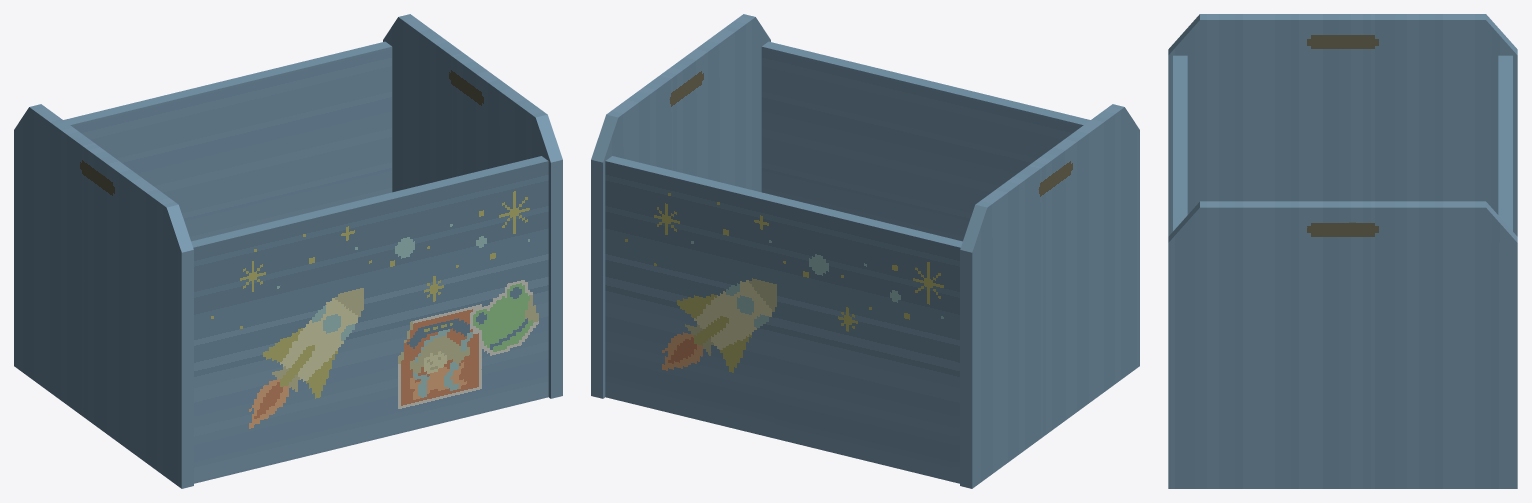
The model's file is 0485_Toy_Chest.glb.
3 renders of one model, left to right at view 1: azimuth 30°, elevation 25°; view 2: azimuth 150°, elevation 25°; view 3: azimuth 270°, elevation 25°, orthographic. The views are drawn at different scales.
Visible parts, largest first — view 1: part_0; view 2: part_0; view 3: part_0.
Boxes of the visible parts, left/top/right/bottom form: part_0: left=14, top=14, right=562, bottom=488; part_0: left=591, top=14, right=1139, bottom=488; part_0: left=1168, top=14, right=1517, bottom=488.
Size of the model in its own units: 0.4782 by 0.324 by 0.3647.
Materials: 1 (1 with a texture image).
